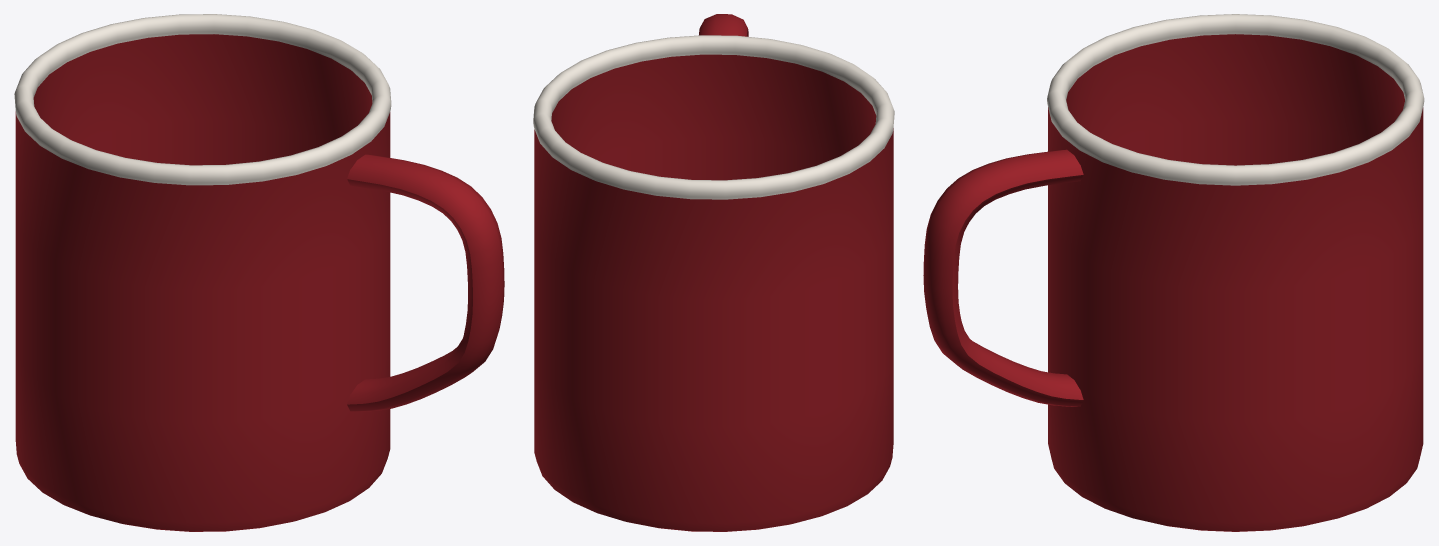
The model's file is SM_CoffeeMug.fbx.
The picture shows the model from 3 angles, left to right: view 1: azimuth 30°, elevation 25°; view 2: azimuth 150°, elevation 25°; view 3: azimuth 270°, elevation 25°; orthographic projection. The views are drawn at different scales.
Parts seen in each view (by area): view 1: SM_CoffeeMug; view 2: SM_CoffeeMug; view 3: SM_CoffeeMug.
Part boxes in pixels (x1,y1,x2,y2): SM_CoffeeMug: (14,14,504,531); SM_CoffeeMug: (533,14,894,531); SM_CoffeeMug: (923,14,1424,531).
Bounding box in the file's own units: 9.06 × 9.7 × 12.02.
